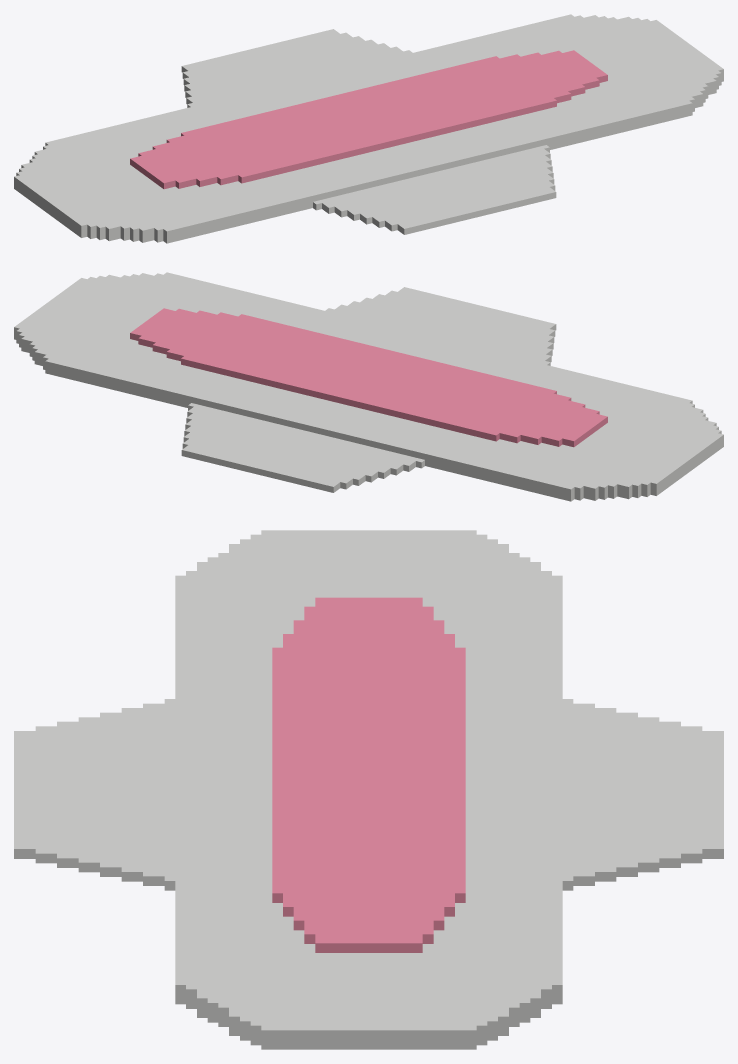
The model's file is menstrual_pad.glb.
The picture shows the model from 3 angles, top to bottom: view 1: azimuth 30°, elevation 25°; view 2: azimuth 150°, elevation 25°; view 3: azimuth 270°, elevation 25°; orthographic projection. The views are drawn at different scales.
Visible parts, largest first — view 1: menstrual_pad:compound; view 2: menstrual_pad:compound; view 3: menstrual_pad:compound.
Boxes of the visible parts, <box> form: menstrual_pad:compound: <box>14,14,723,243</box>; menstrual_pad:compound: <box>14,272,723,501</box>; menstrual_pad:compound: <box>14,530,723,1049</box>.
Bounding box in the file's own units: 0.22 × 0.006 × 0.132.
